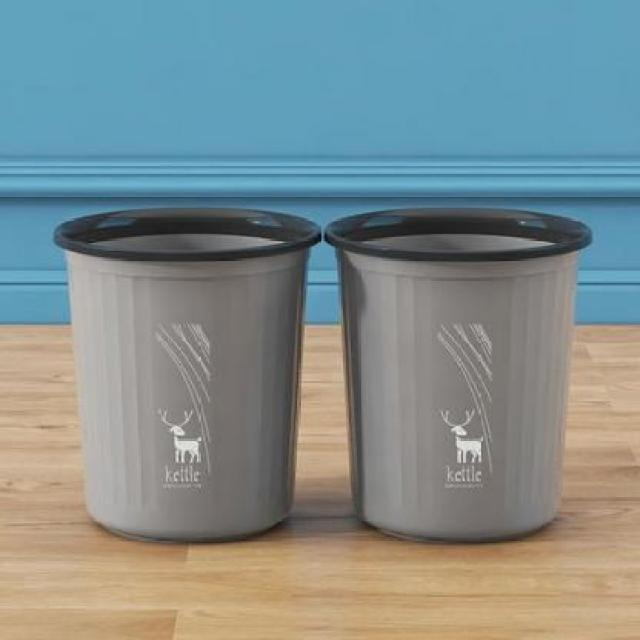dustbin: (322, 202, 603, 548), (50, 202, 322, 548)
